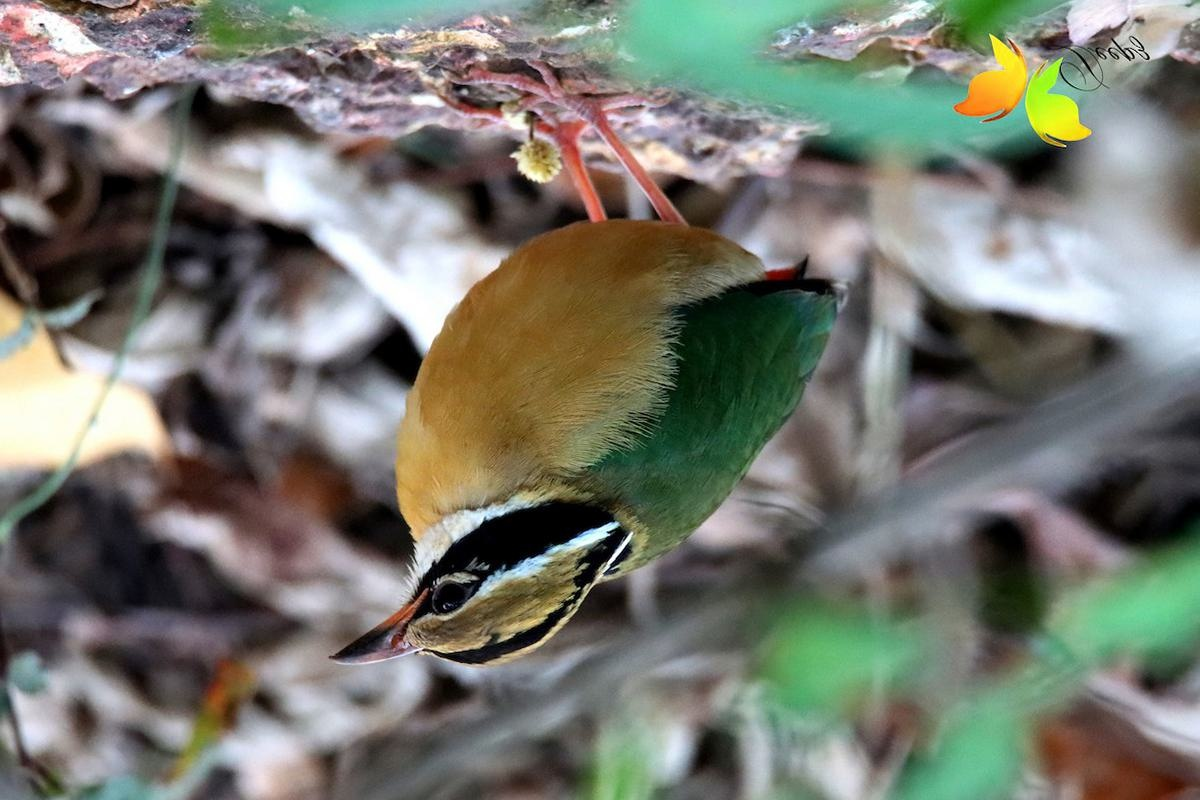pitta: (341, 101, 864, 710)
